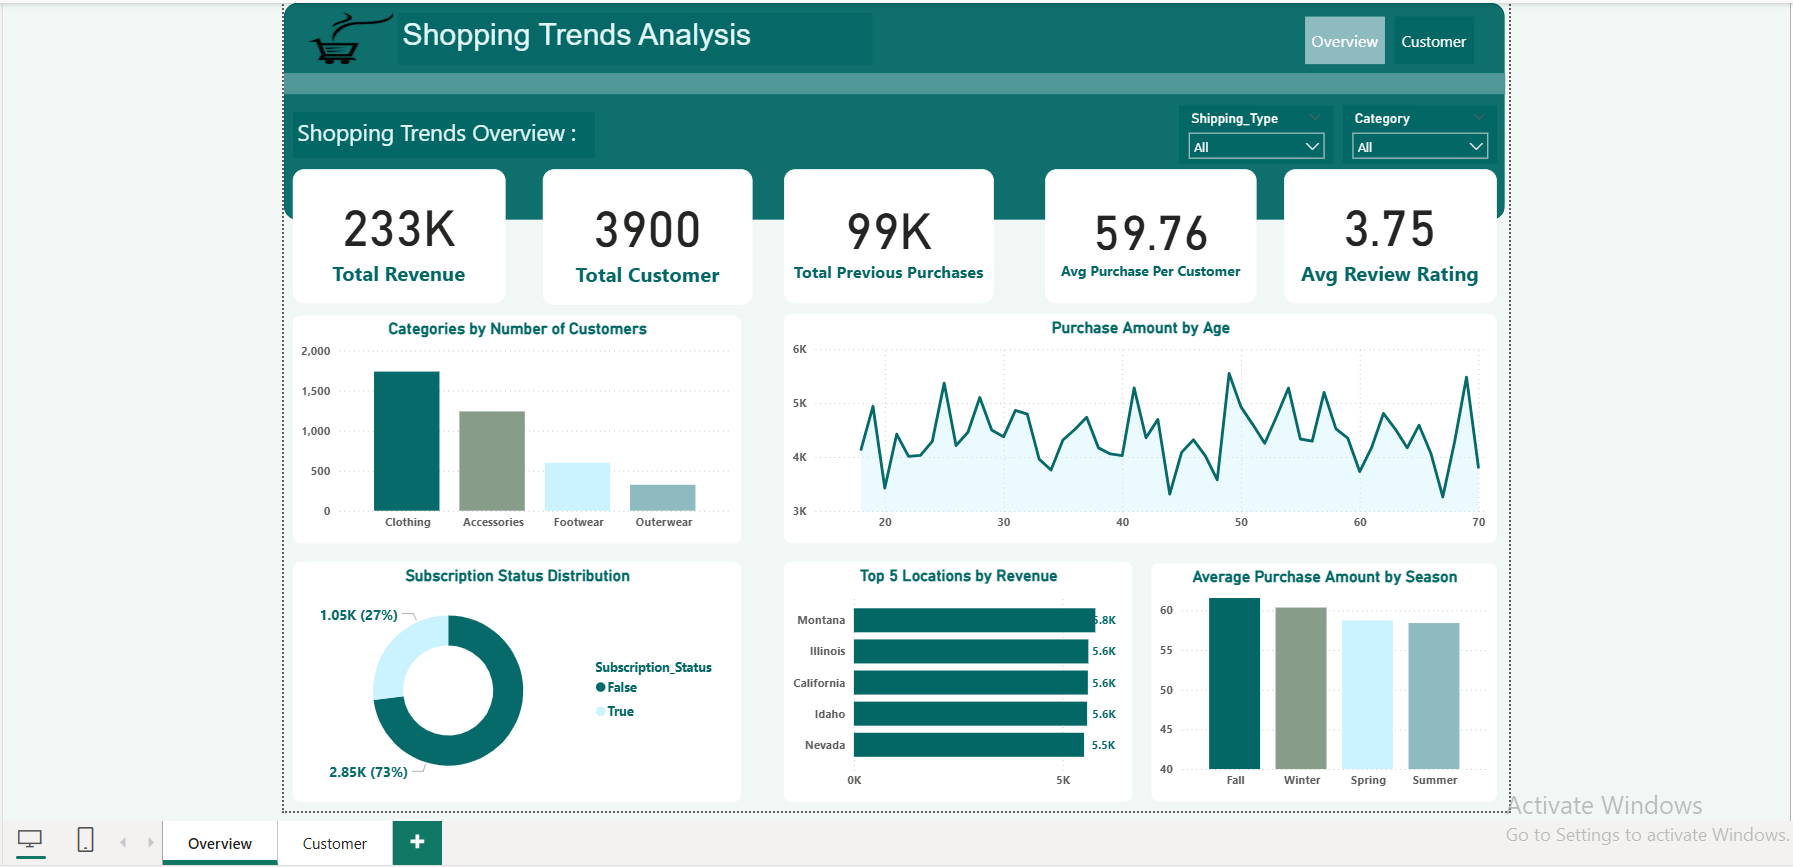

Layout of this report page (visuals, bound fields, positions):
{"tool":"powerbi","page":{"name":"Overview","canvas":[1293,854],"ordinal":0},"visuals":[{"type":"shape","box":[0,0,1289.3,229],"z":0},{"type":"shape","box":[0,74.2,1290,22.4],"z":1000},{"type":"textbox","box":[120.5,11.2,501.5,54.6],"z":2000},{"type":"card","fields":{"Values":["Sum(Data.Purchase_Amount_USD)"]},"box":[8.6,176,224.7,141.7],"z":3000},{"type":"textbox","box":[8.6,114.5,319.1,48.7],"z":4000},{"type":"card","fields":{"Values":["CountNonNull(Data.Customer_ID)"]},"box":[273.3,176,221.8,143.1],"z":5000},{"type":"card","fields":{"Values":["Shopping.Total_Transactions"]},"box":[528,176,221.8,141.7],"z":6000},{"type":"card","fields":{"Values":["Shopping.Avg_Purchase_Per_Customer"]},"box":[804.2,176,223.2,141.7],"z":7000},{"type":"card","fields":{"Values":["Shopping.Avg_Review_Rating"]},"box":[1056.1,176,224.7,141.7],"z":8000},{"type":"columnChart","title":"Categories by Number of Customers","fields":{"Category":["Shopping.Category"],"Y":["CountNonNull(Shopping.Customer_ID)"]},"box":[8.6,330.6,473.7,240.4],"z":9000},{"type":"donutChart","title":"Subscription Status Distribution","fields":{"Category":["Shopping.Subscription_Status"],"Y":["CountNonNull(Shopping.Customer_ID)"]},"box":[8.6,589.6,473.7,253.3],"z":10000},{"type":"lineChart","title":"Purchase Amount by Age","fields":{"Y":["Sum(Shopping.Purchase_Amount_USD)"],"Category":["Shopping.Age"]},"box":[528,329.1,752.7,241.8],"z":11000},{"type":"barChart","title":"Top 5 Locations by Revenue","fields":{"Category":["Shopping.Location"],"Y":["Measures (2).Total_Revenue"]},"box":[528,589.6,367.8,253.3],"z":12000},{"type":"columnChart","title":"Average Purchase Amount by Season","fields":{"Category":["Shopping.Season"],"Y":["Avg(Shopping.Purchase_Amount_USD)"]},"box":[915.8,591,364.9,251.9],"z":13000},{"type":"image","box":[21,5.6,99.5,64.4],"z":14000},{"type":"slicer","fields":{"Values":["Shopping.Category"]},"box":[1117.8,107.8,163.2,61.2],"z":15000},{"type":"pageNavigator","box":[1079,14.3,178.9,50.1],"z":16000},{"type":"slicer","fields":{"Values":["Shopping.Subscription_Status"]},"box":[945.9,107.8,163.2,61.2],"z":17000}]}

Visuals, with their boxes on the page's 1293x854 design canvas (x1, y1, x2, y2). These are canvas units, not pixel positions in the 1793x867 screenshot, which may show the page scaled, cropped or inside an application window:
shape: 0,0,1289,229
shape: 0,74,1290,97
textbox: 120,11,622,66
card - Sum(Data.Purchase_Amount_USD): 9,176,233,318
textbox: 9,114,328,163
card - CountNonNull(Data.Customer_ID): 273,176,495,319
card - Shopping.Total_Transactions: 528,176,750,318
card - Shopping.Avg_Purchase_Per_Customer: 804,176,1027,318
card - Shopping.Avg_Review_Rating: 1056,176,1281,318
"Categories by Number of Customers" columnChart: 9,331,482,571
"Subscription Status Distribution" donutChart: 9,590,482,843
"Purchase Amount by Age" lineChart: 528,329,1281,571
"Top 5 Locations by Revenue" barChart: 528,590,896,843
"Average Purchase Amount by Season" columnChart: 916,591,1281,843
image: 21,6,120,70
slicer - Shopping.Category: 1118,108,1281,169
pageNavigator: 1079,14,1258,64
slicer - Shopping.Subscription_Status: 946,108,1109,169
